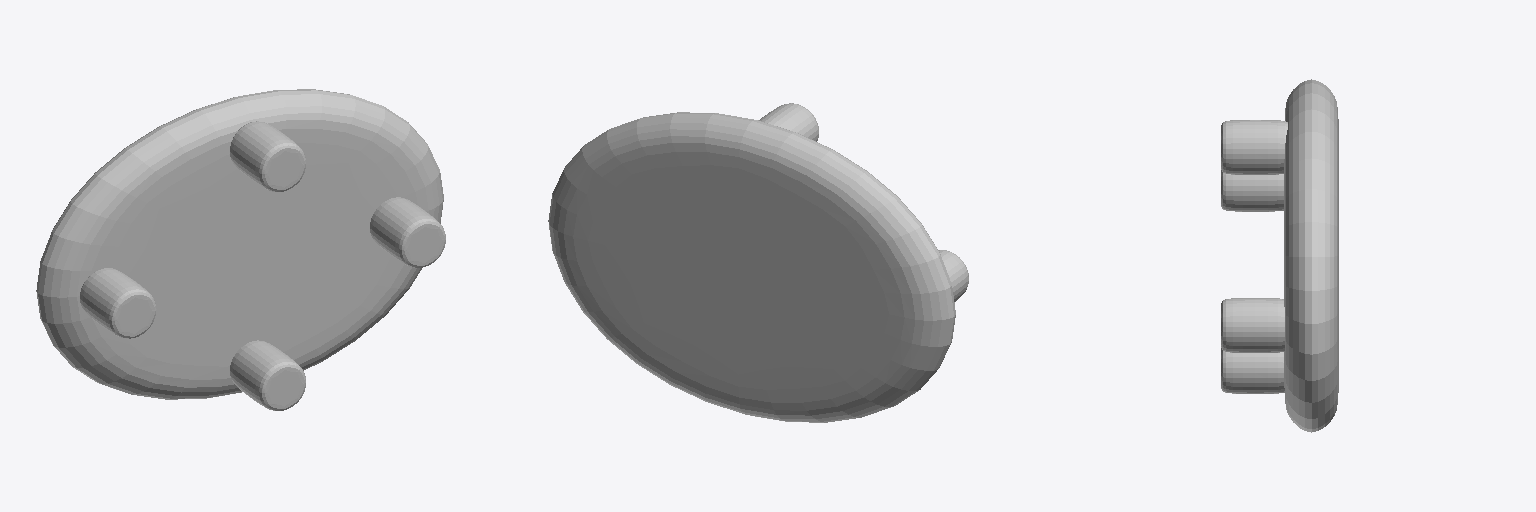
The model's file is coffee_table.obj.
3 renders of one model, left to right at view 1: azimuth 30°, elevation 25°; view 2: azimuth 150°, elevation 25°; view 3: azimuth 270°, elevation 25°, orthographic.
Parts seen in each view (by area): view 1: coffee_table; view 2: coffee_table; view 3: coffee_table.
Boxes of the visible parts, x1=… form: coffee_table: x1=36, y1=89, x2=445, y2=410; coffee_table: x1=548, y1=103, x2=968, y2=422; coffee_table: x1=1221, y1=79, x2=1338, y2=432.
Bounding box in the file's own units: 1.37 × 0.9476 × 0.3447.